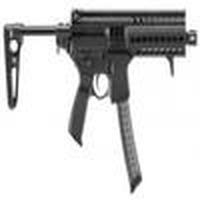gun: (4, 11, 200, 153)
